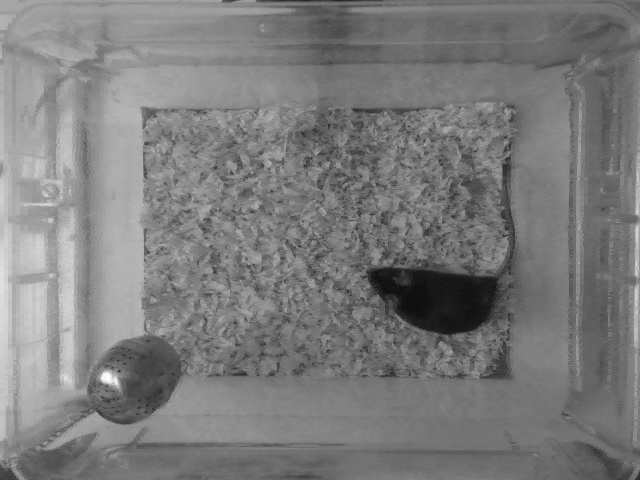mice: (366, 144, 517, 333)
